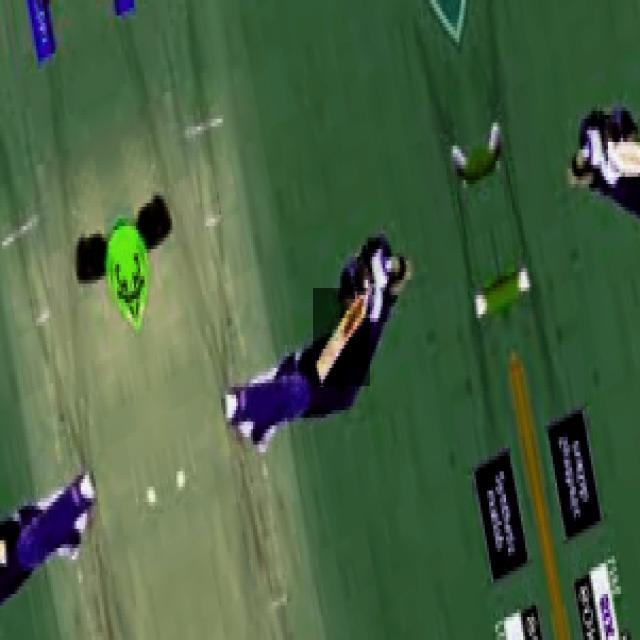bat: (302, 293, 364, 394)
toe: (310, 353, 328, 390)
